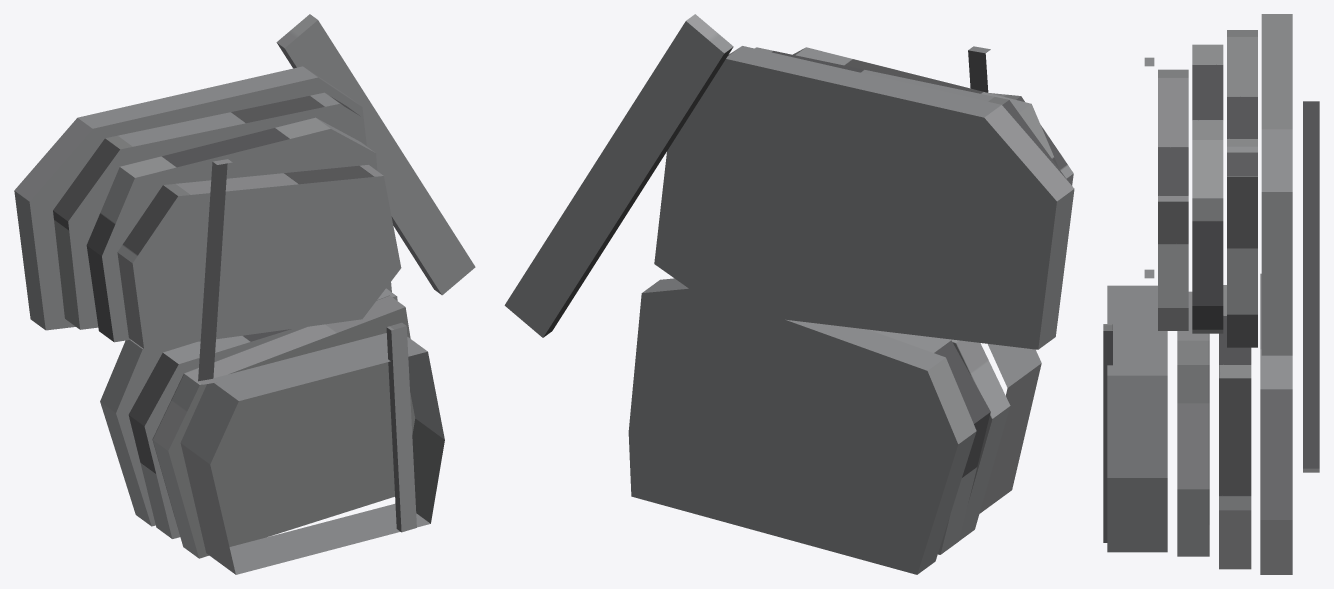
The picture shows the model from 3 angles, left to right: view 1: azimuth 30°, elevation 25°; view 2: azimuth 150°, elevation 25°; view 3: azimuth 270°, elevation 25°; orthographic projection. The views are drawn at different scales.
Size of the model in its own units: 0.7254 by 0.6674 by 0.2875.
